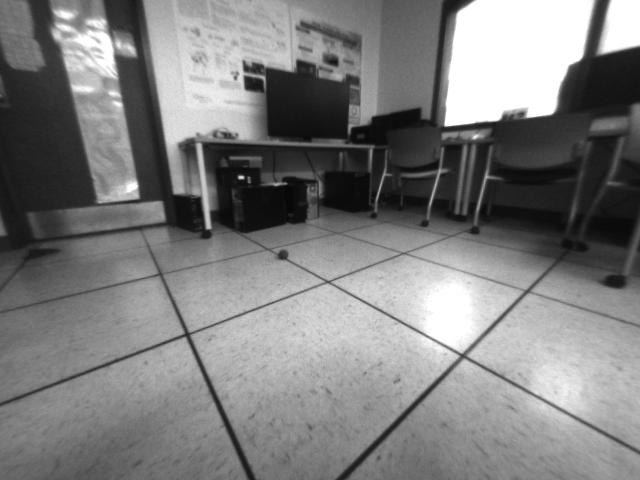dogtoy: (272, 242, 297, 266)
